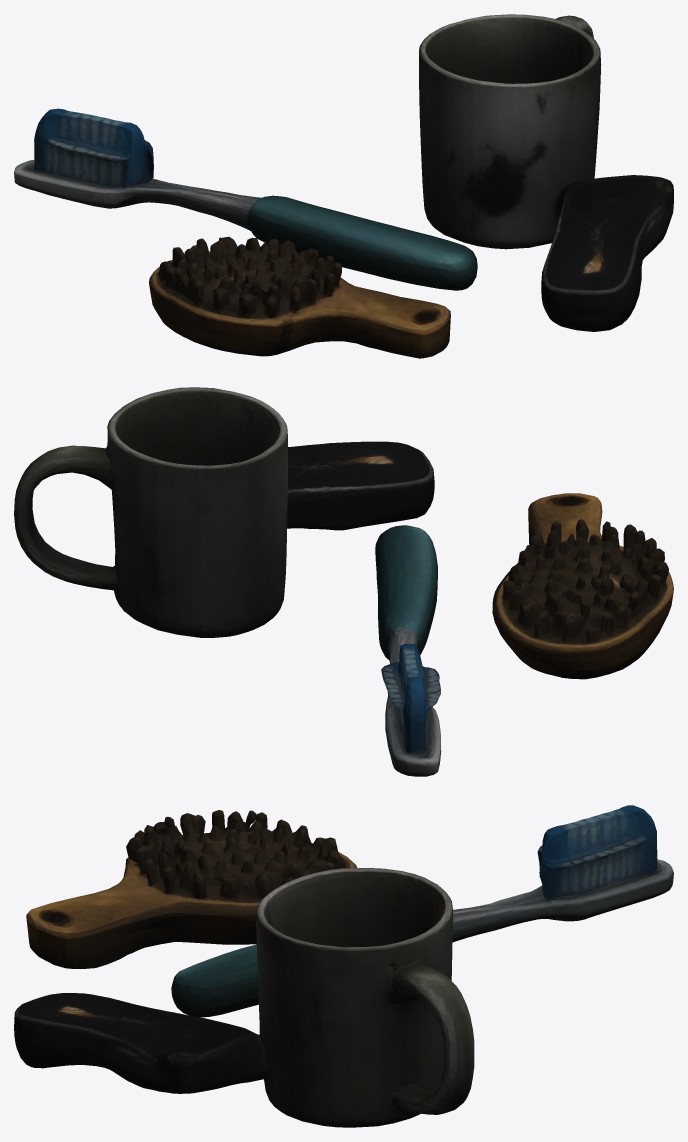
Rendered from personal_items_brushes_mug.glb.
3 views of the same model, one above another, from view 1: azimuth 30°, elevation 25°; view 2: azimuth 150°, elevation 25°; view 3: azimuth 270°, elevation 25° (orthographic). The views are drawn at different scales.
Visible parts, largest first — view 1: geometry_0; view 2: geometry_0; view 3: geometry_0.
Part boxes in pixels (bbox=[...]): geometry_0: bbox=[14, 14, 673, 358]; geometry_0: bbox=[14, 387, 673, 776]; geometry_0: bbox=[14, 805, 673, 1127].
Size of the model in its own units: 1 by 0.3164 by 0.9992.
1 material, 1 textured.
